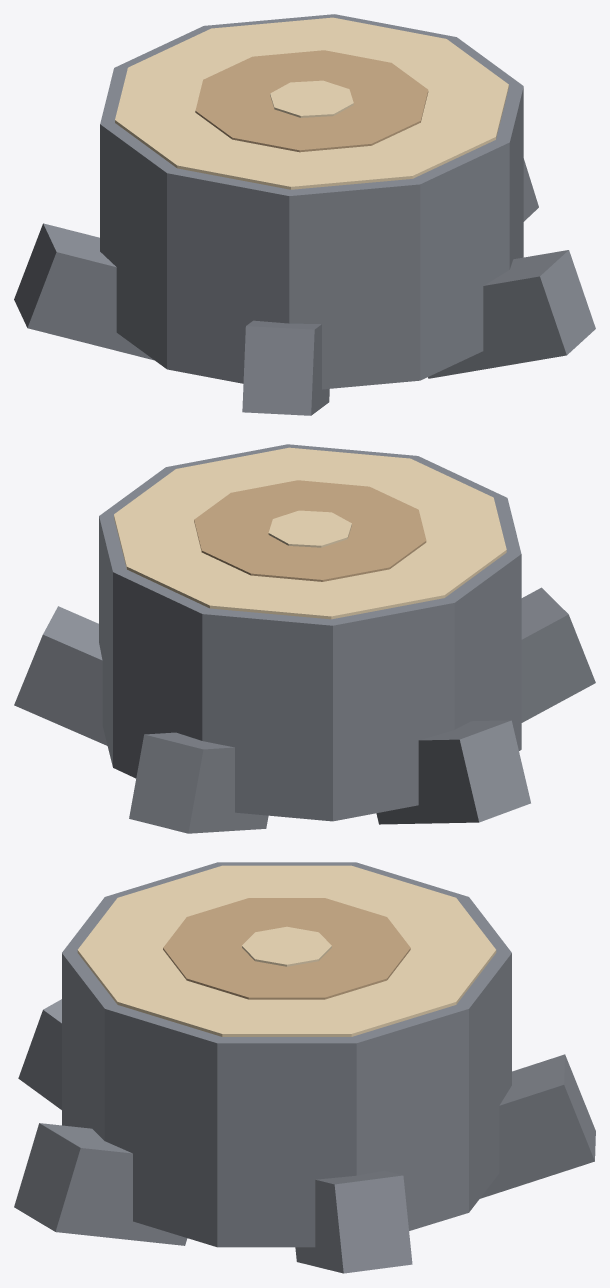
File: Stump_Iron.fbx
The picture shows the model from 3 angles, top to bottom: view 1: azimuth 30°, elevation 25°; view 2: azimuth 150°, elevation 25°; view 3: azimuth 270°, elevation 25°; orthographic projection. The views are drawn at different scales.
Visible parts, largest first — view 1: Stump_Iron_Mesh; view 2: Stump_Iron_Mesh; view 3: Stump_Iron_Mesh.
Part boxes in pixels (x1,y1,x2,y2): Stump_Iron_Mesh: (14,14,595,415); Stump_Iron_Mesh: (14,444,595,833); Stump_Iron_Mesh: (14,862,595,1273).
Bounding box in the file's own units: 2.71 × 1.23 × 2.59.
